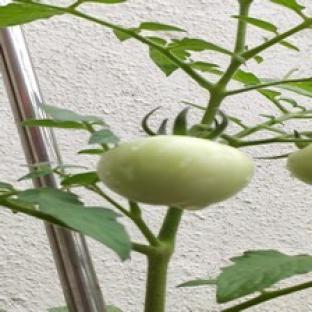Tomato: (98, 136, 253, 210), (287, 145, 311, 183)
